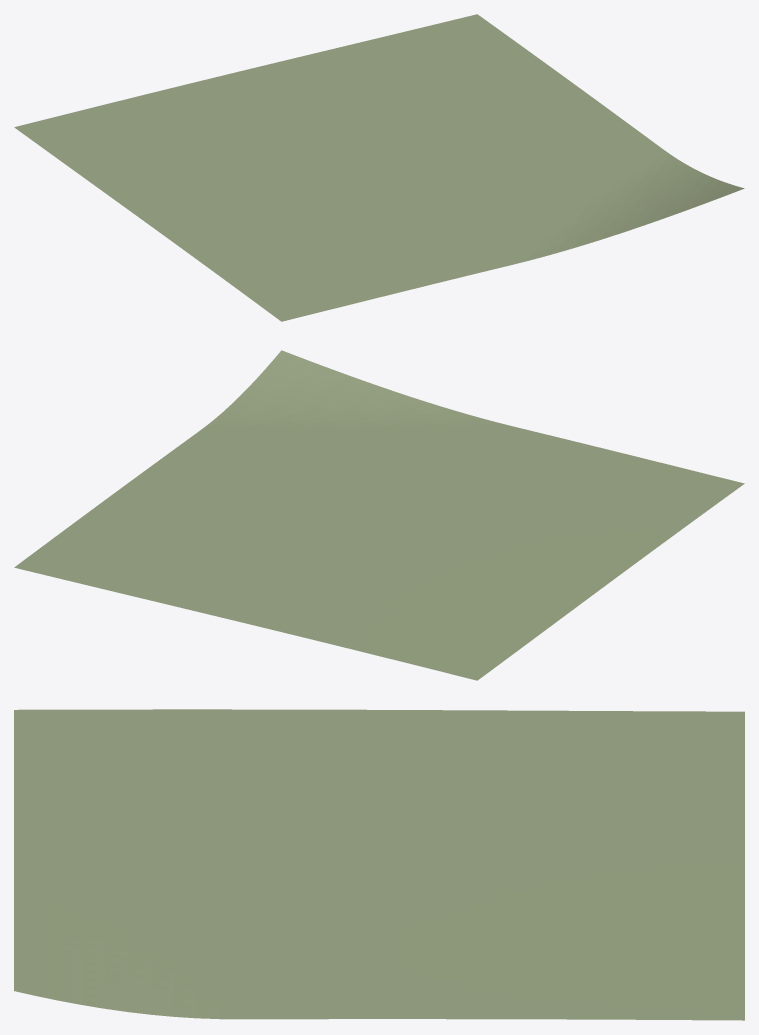
File: desert-24-17.glb
The picture shows the model from 3 angles, top to bottom: view 1: azimuth 30°, elevation 25°; view 2: azimuth 150°, elevation 25°; view 3: azimuth 270°, elevation 25°; orthographic projection. The views are drawn at different scales.
Parts seen in each view (by area): view 1: desert-24-17; view 2: desert-24-17; view 3: desert-24-17.
Boxes of the visible parts, x1,y1,x2,y2 form: desert-24-17: [14, 14, 744, 321]; desert-24-17: [14, 350, 744, 680]; desert-24-17: [14, 709, 744, 1020].
Size of the model in its own units: 512 by 22.8 by 512.
